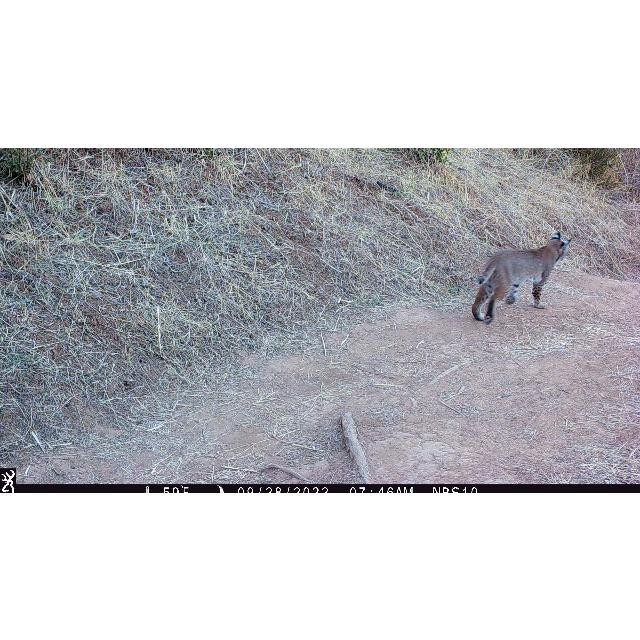animals: (472, 230, 574, 324)
